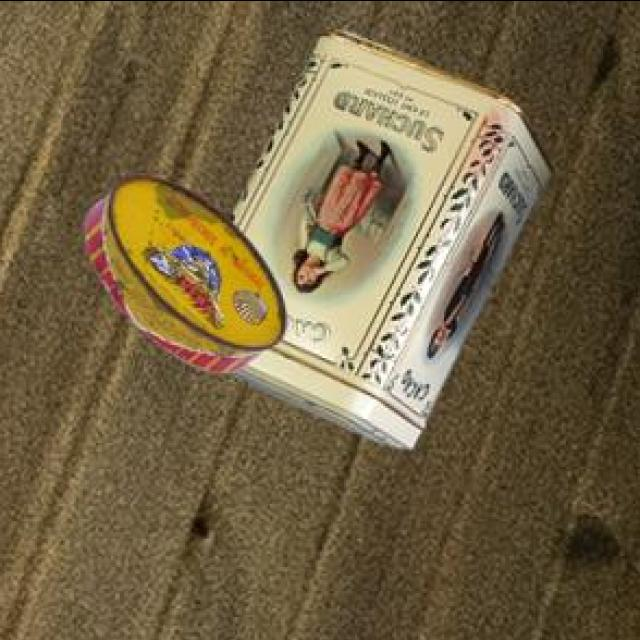logam: (225, 32, 550, 452), (84, 177, 282, 376)
